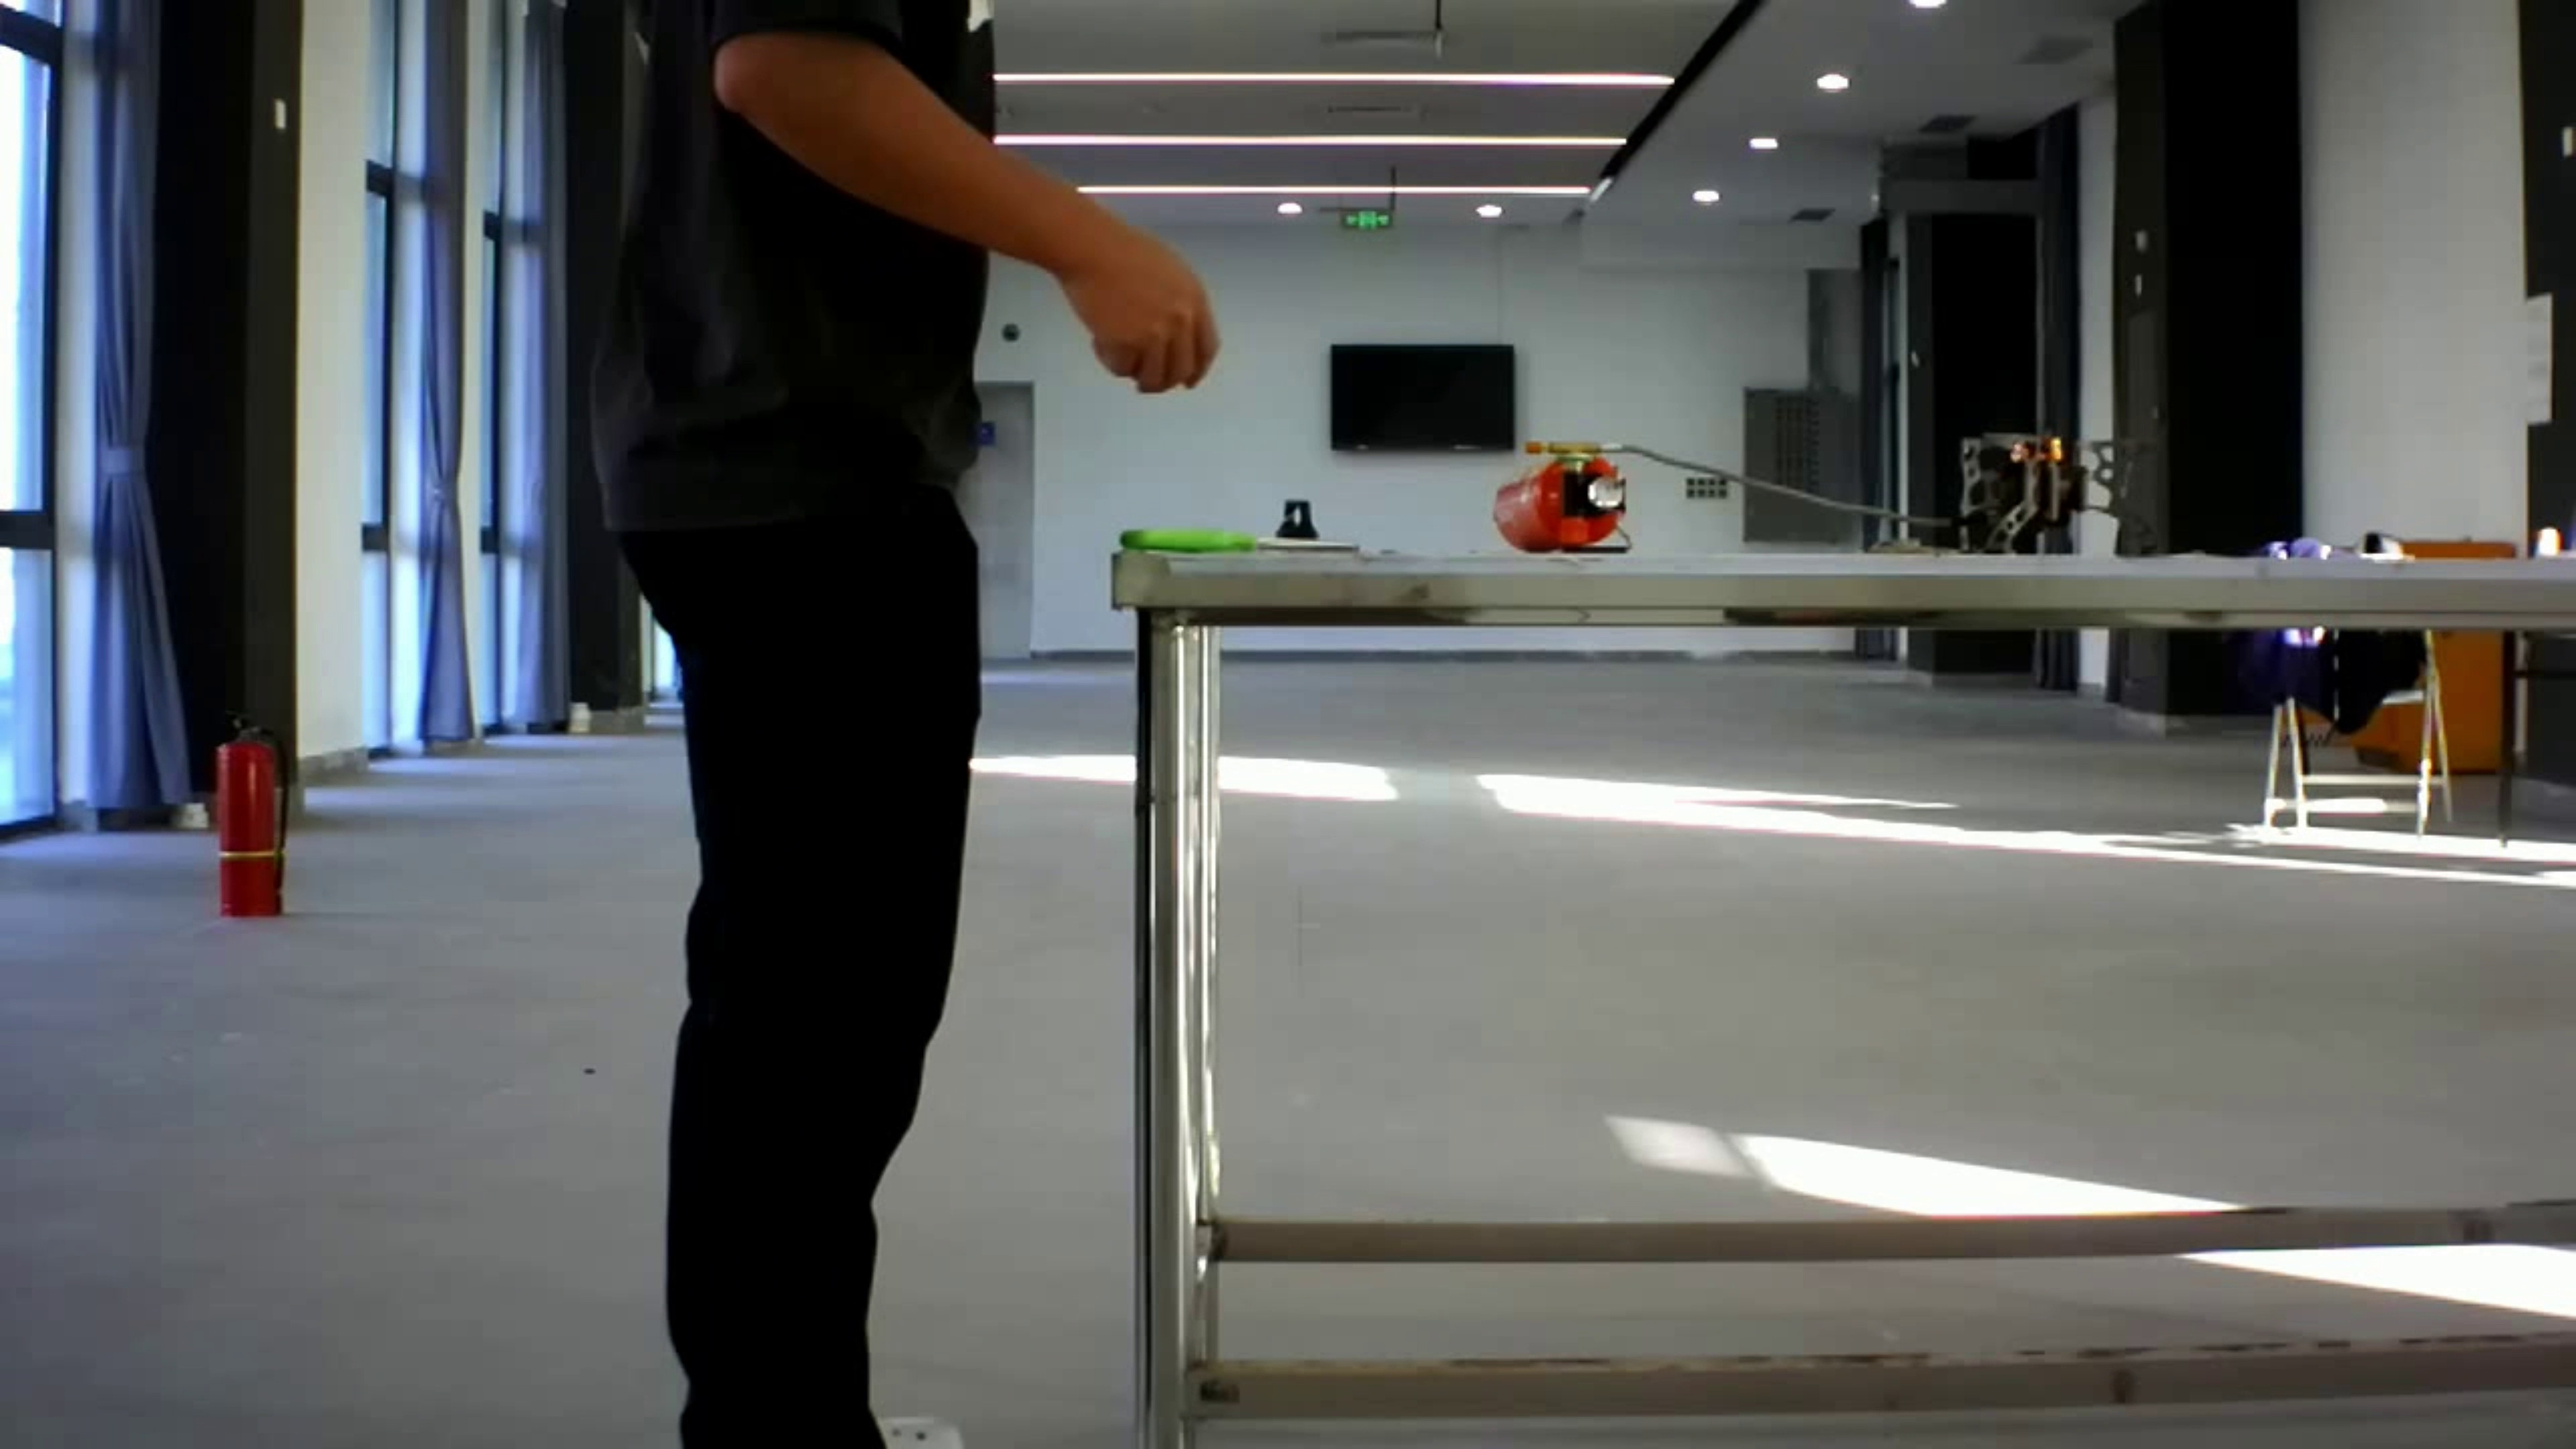Fire: (1987, 414, 2086, 476)
